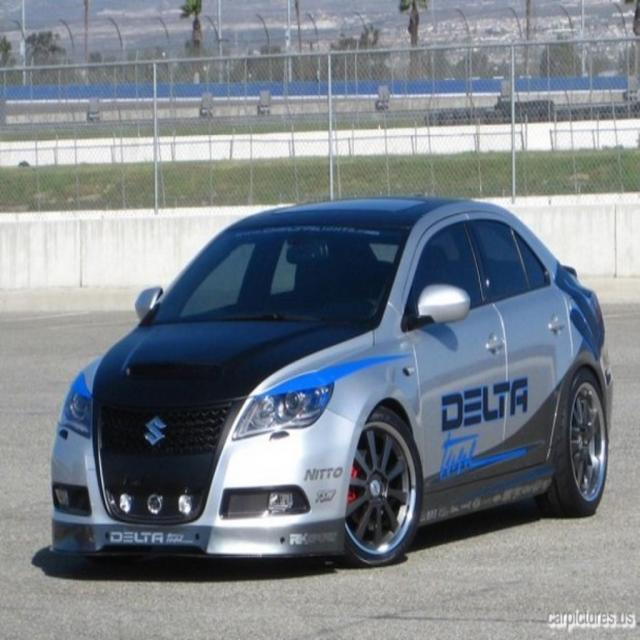Car: (50, 197, 613, 568)
